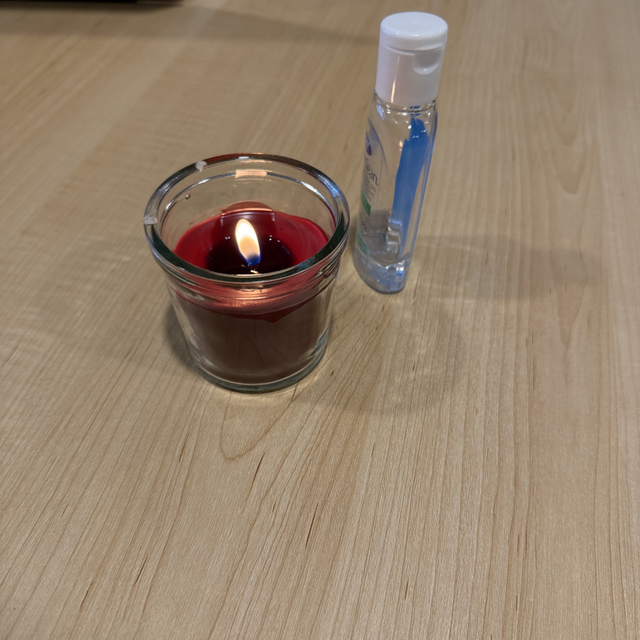Candle: (142, 151, 352, 397)
Sanitizer: (355, 9, 450, 312)
